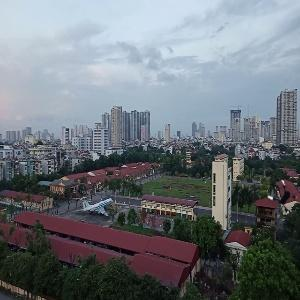drone: (265, 180, 300, 216)
